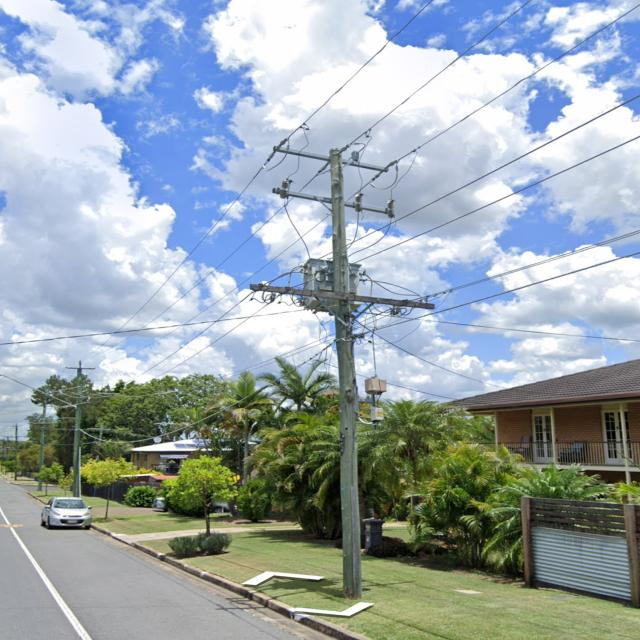HV-transmission: (263, 137, 402, 220), (66, 360, 96, 371)
crossarm: (248, 284, 435, 309), (273, 187, 391, 214), (272, 146, 388, 173), (58, 401, 90, 410), (66, 367, 96, 370), (6, 435, 27, 438), (10, 424, 23, 427)
streetlight: (0, 375, 77, 408)
timber-pole: (328, 148, 362, 600), (72, 367, 83, 497), (37, 404, 47, 492), (14, 426, 18, 480)
transformer: (302, 257, 364, 314)
